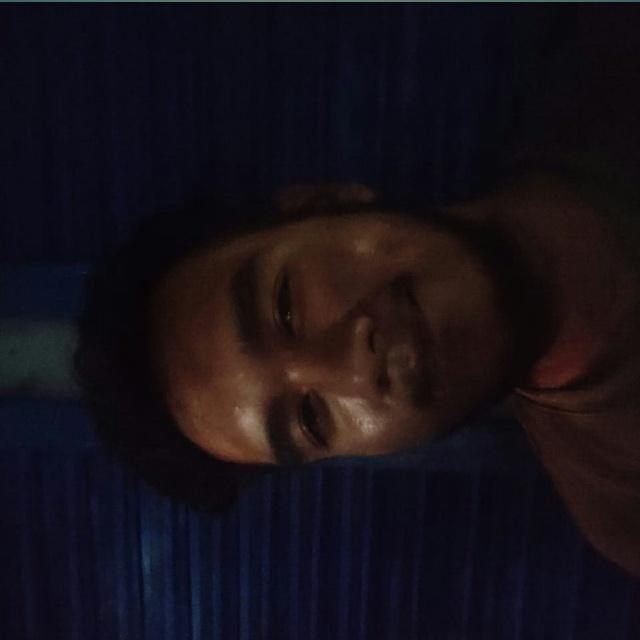Happy: (170, 160, 512, 536)
